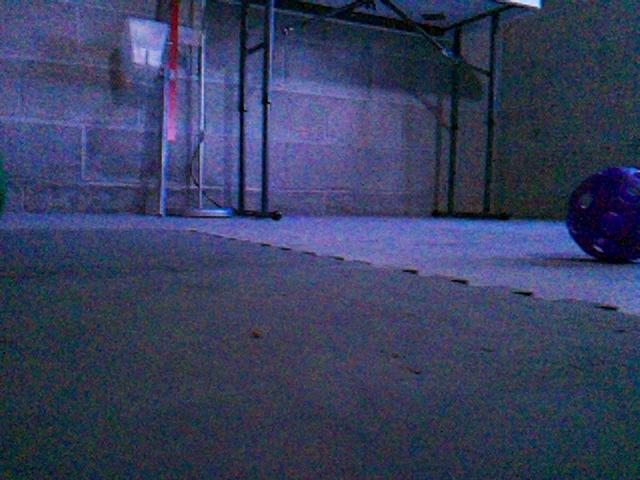Green: (0, 146, 8, 221)
Purple: (563, 166, 640, 262)
